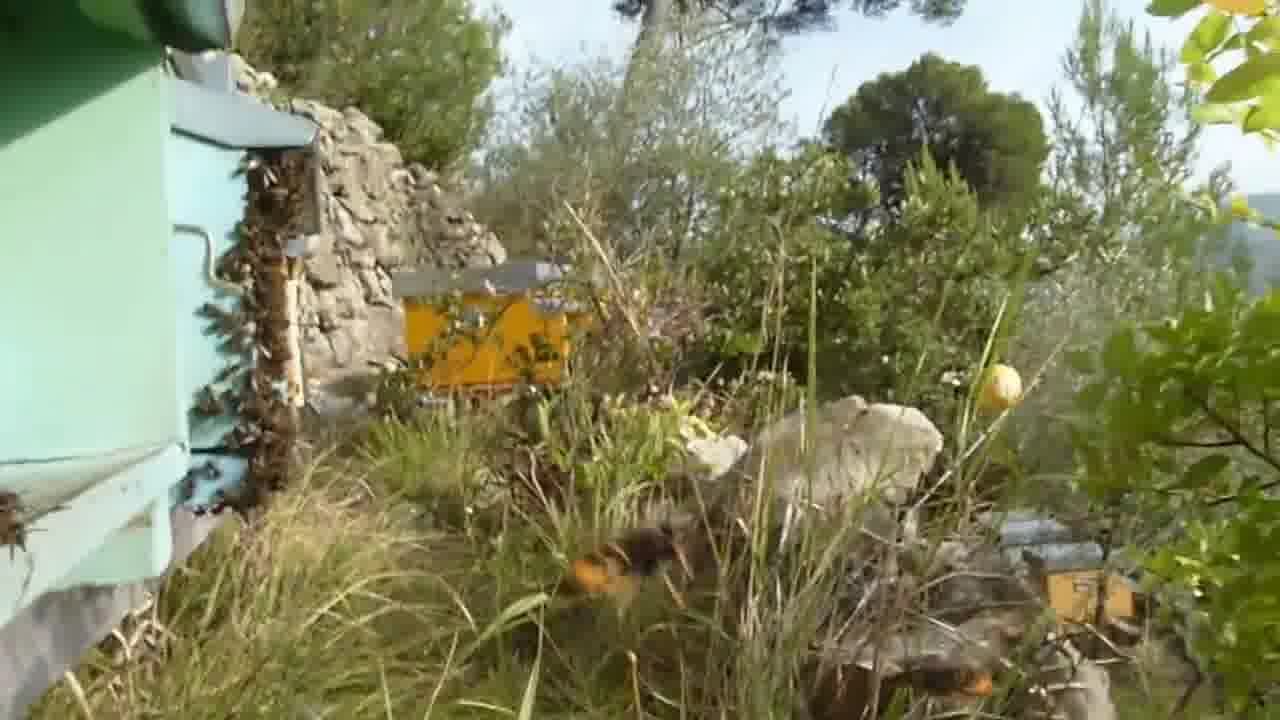bee: (217, 265, 298, 378), (232, 154, 309, 258), (195, 375, 289, 460)
hornet: (560, 512, 696, 611)
